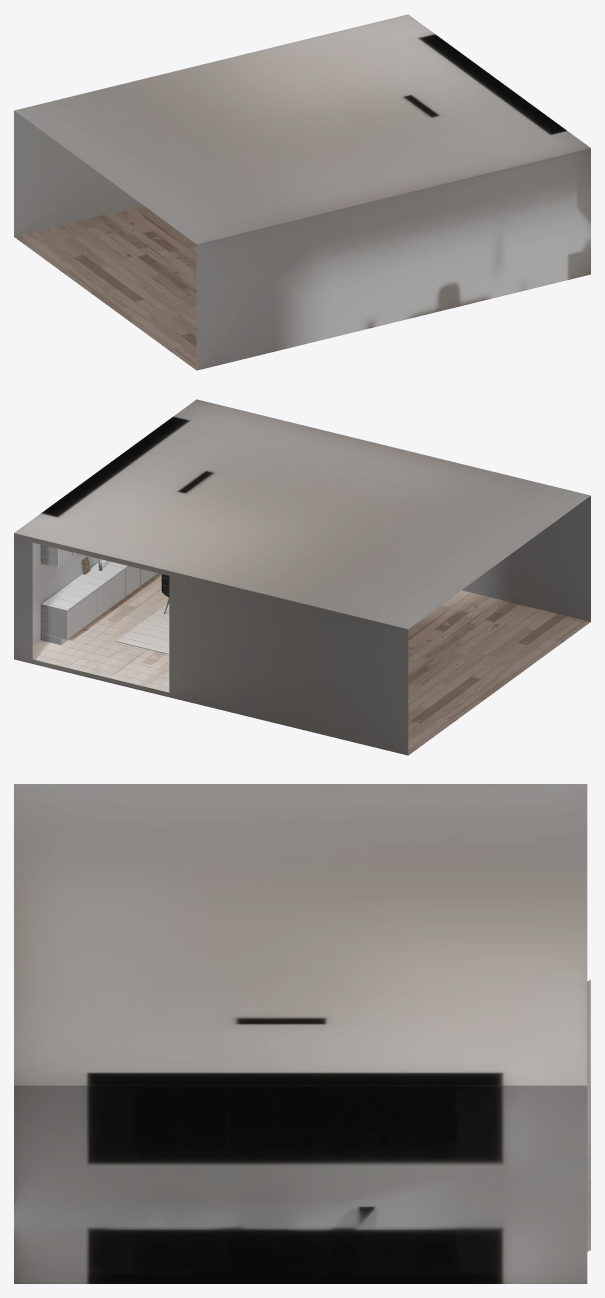
Rendered from kitchen-transformed.glb.
3 views of the same model, one above another, from view 1: azimuth 30°, elevation 25°; view 2: azimuth 150°, elevation 25°; view 3: azimuth 270°, elevation 25° (orthographic). The views are drawn at different scales.
Parts seen in each view (by area): view 1: walls; view 2: walls, kitchen, carpet; view 3: walls.
Boxes of the visible parts, bbox=[...] form: walls: bbox=[14, 14, 590, 370]; walls: bbox=[14, 399, 590, 755]; kitchen: bbox=[41, 544, 158, 644]; carpet: bbox=[116, 603, 169, 654]; walls: bbox=[14, 784, 590, 1283].
Size of the model in its own units: 9.85 by 3.02 by 7.96.
9 materials, 8 textured.
